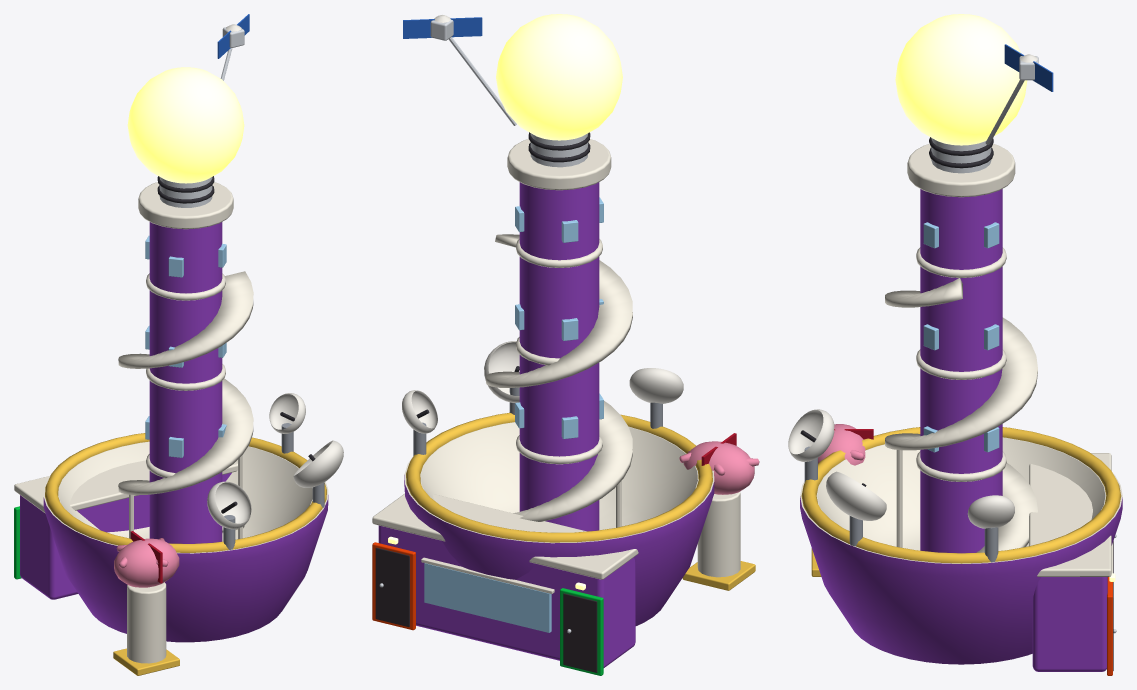
Rendered from building_research_center_t3.glb.
3 views of the same model, side by side, from view 1: azimuth 30°, elevation 25°; view 2: azimuth 150°, elevation 25°; view 3: azimuth 270°, elevation 25° (orthographic). The views are drawn at different scales.
Parts seen in each view (by area): view 1: Crater, Tower, Bulb.Glass, Ramp, Gatehouse, Crater.Rim, Brain.Pedestal, Gatehouse.Top, Tower.Cap, Brain, Dish2.Dish, Dish1.Dish (+5 smaller); view 2: Crater, Tower, Bulb.Glass, Gatehouse, Ramp, Crater.Rim, Gatehouse.Glass, Gatehouse.Top, Brain.Pedestal, Tower.Cap, Exit.Leaf, Entry.Leaf (+12 smaller); view 3: Crater, Tower, Bulb.Glass, Ramp, Gatehouse, Crater.Rim, Gatehouse.Top, Tower.Cap, Dish1.Dish, Dish2.Dish, Dish3.Dish, Bulb.Screw (+7 smaller).
Part boxes in pixels (x1=…): Crater: x1=43, y1=441, x2=328, y2=642; Tower: x1=149, y1=222, x2=222, y2=543; Bulb.Glass: x1=127, y1=67, x2=244, y2=183; Ramp: x1=118, y1=271, x2=253, y2=533; Gatehouse: x1=20, y1=472, x2=231, y2=599; Crater.Rim: x1=45, y1=433, x2=326, y2=552; Brain.Pedestal: x1=127, y1=582, x2=166, y2=663; Gatehouse.Top: x1=14, y1=460, x2=237, y2=513; Tower.Cap: x1=138, y1=182, x2=233, y2=229; Brain: x1=114, y1=538, x2=179, y2=587; Dish2.Dish: x1=207, y1=481, x2=251, y2=529; Dish1.Dish: x1=293, y1=440, x2=343, y2=487; Crater: x1=404, y1=422, x2=714, y2=625; Tower: x1=519, y1=182, x2=599, y2=531; Bulb.Glass: x1=496, y1=14, x2=622, y2=140; Gatehouse: x1=378, y1=525, x2=635, y2=667; Ramp: x1=486, y1=234, x2=632, y2=521; Crater.Rim: x1=406, y1=412, x2=712, y2=542; Gatehouse.Glass: x1=424, y1=563, x2=551, y2=632; Gatehouse.Top: x1=372, y1=493, x2=638, y2=579; Brain.Pedestal: x1=697, y1=491, x2=740, y2=577; Tower.Cap: x1=507, y1=139, x2=611, y2=190; Exit.Leaf: x1=375, y1=547, x2=409, y2=626; Entry.Leaf: x1=563, y1=593, x2=597, y2=672; Crater: x1=800, y1=437, x2=1122, y2=664; Tower: x1=920, y1=189, x2=1002, y2=553; Bulb.Glass: x1=895, y1=14, x2=1027, y2=145; Ramp: x1=885, y1=278, x2=1037, y2=552; Gatehouse: x1=1032, y1=577, x2=1107, y2=671; Crater.Rim: x1=801, y1=427, x2=1121, y2=563; Gatehouse.Top: x1=1029, y1=453, x2=1111, y2=576; Tower.Cap: x1=907, y1=144, x2=1015, y2=197; Dish1.Dish: x1=826, y1=471, x2=886, y2=520; Dish2.Dish: x1=788, y1=409, x2=834, y2=461; Dish3.Dish: x1=967, y1=495, x2=1014, y2=528; Bulb.Screw: x1=931, y1=138, x2=991, y2=173.
Size of the model in its own units: 4.42 by 8.9 by 4.46.
